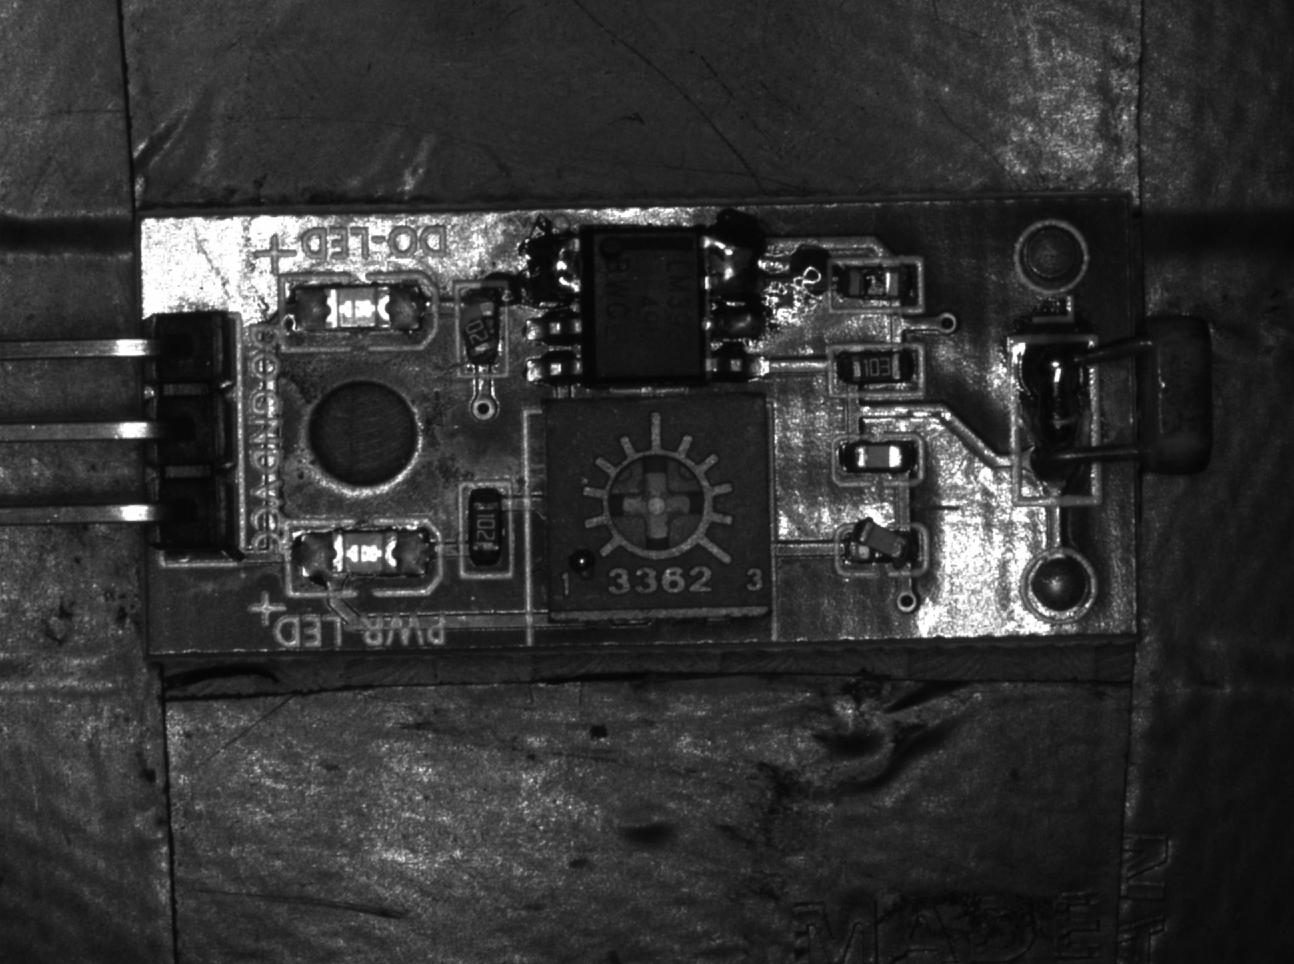bridge: (1008, 339, 1110, 520), (704, 224, 773, 345), (518, 235, 583, 304)
lifted: (454, 282, 508, 378), (835, 518, 925, 574)
miss: (826, 259, 920, 312)
ok: (457, 483, 515, 578), (833, 347, 925, 399), (835, 435, 924, 488)
